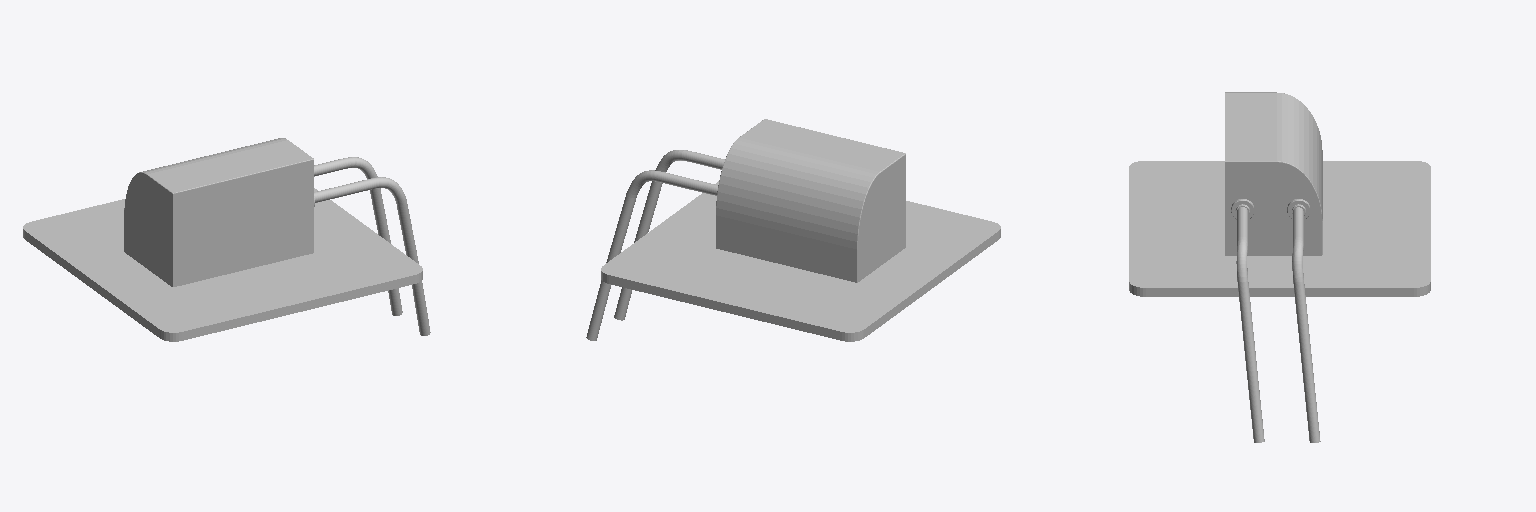
The model's file is left-pipe.obj.
3 views of the same model, side by side, from view 1: azimuth 30°, elevation 25°; view 2: azimuth 150°, elevation 25°; view 3: azimuth 270°, elevation 25° (orthographic).
Visible parts, largest first — view 1: 左下主体物底座.1, 左下主体物, 管道.2, 管道.1; view 2: 左下主体物底座.1, 左下主体物, 管道.1, 管道.2; view 3: 左下主体物底座.1, 左下主体物, 管道.1, 管道.2.
Boxes of the visible parts, x1,y1,x2,y2 form: 左下主体物底座.1: [23, 188, 422, 341]; 左下主体物: [124, 138, 314, 286]; 管道.2: [314, 177, 430, 335]; 管道.1: [314, 157, 402, 315]; 左下主体物底座.1: [601, 181, 1000, 341]; 左下主体物: [716, 119, 905, 282]; 管道.1: [586, 170, 717, 340]; 管道.2: [614, 150, 724, 320]; 左下主体物底座.1: [1129, 161, 1430, 296]; 左下主体物: [1225, 92, 1322, 255]; 管道.1: [1292, 207, 1320, 442]; 管道.2: [1236, 207, 1264, 442].
Size of the model in its own units: 165 by 106 by 132.